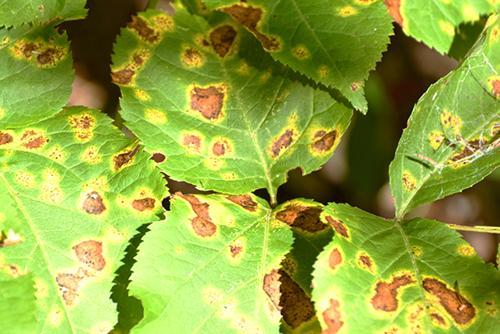black-spot: (159, 57, 305, 173), (346, 239, 477, 334)
